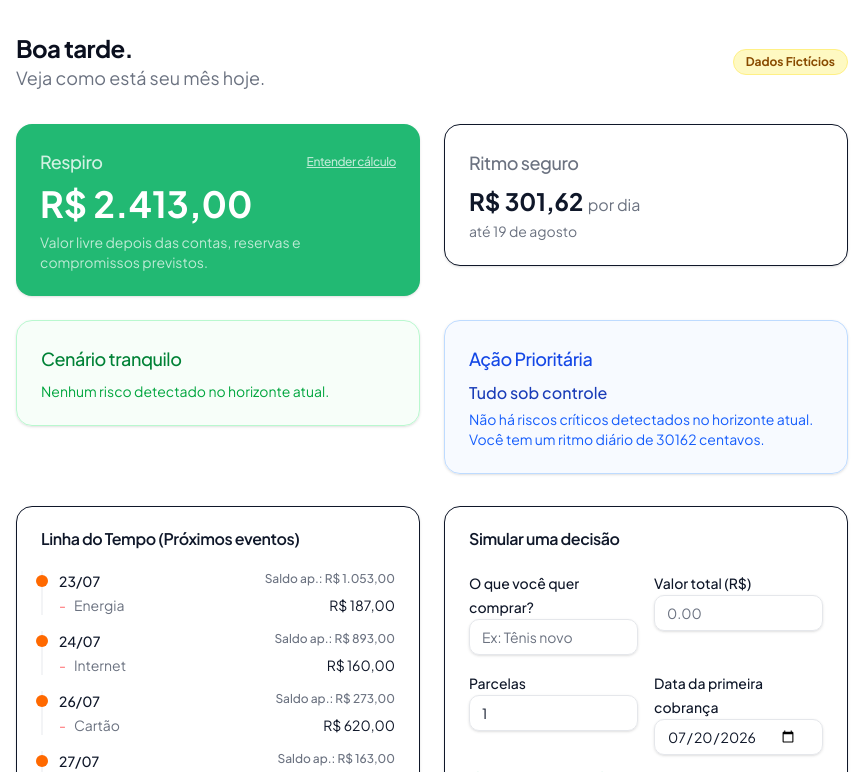
Test: TodayDashboardPrototype (Decision Engine Integration) › 16. Limpeza da simulação
The width and height of the screenshot is (865, 772).
Type "500" into the number field labelled "Valor total (R$)" at (738, 613), box left=654, top=595, right=823, bottom=631
(page scrolled)
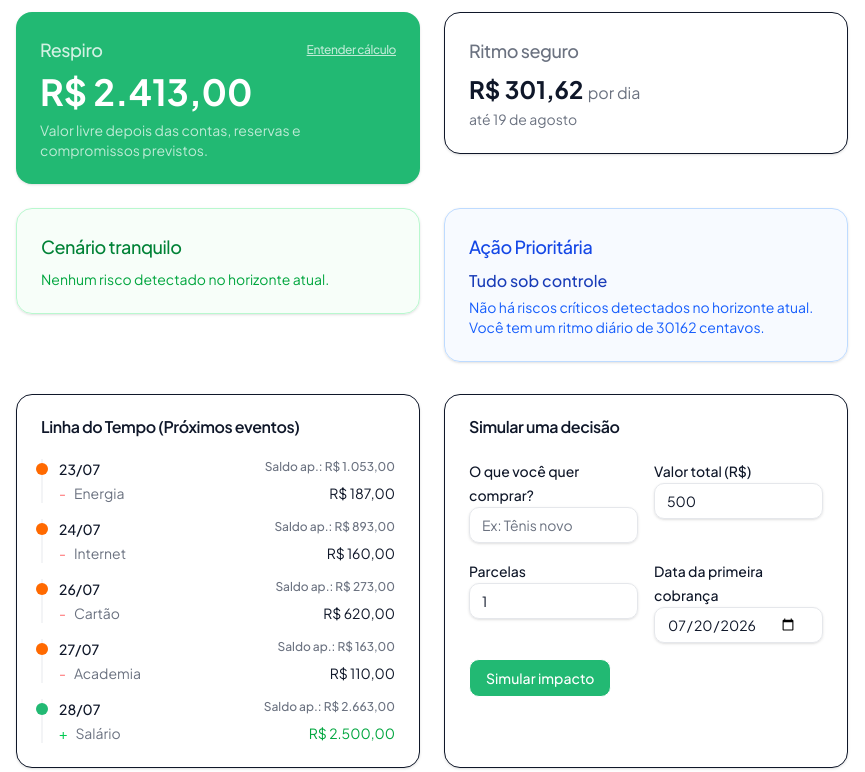
Click the button "Simular impacto" at (540, 678), box left=469, top=659, right=611, bottom=697
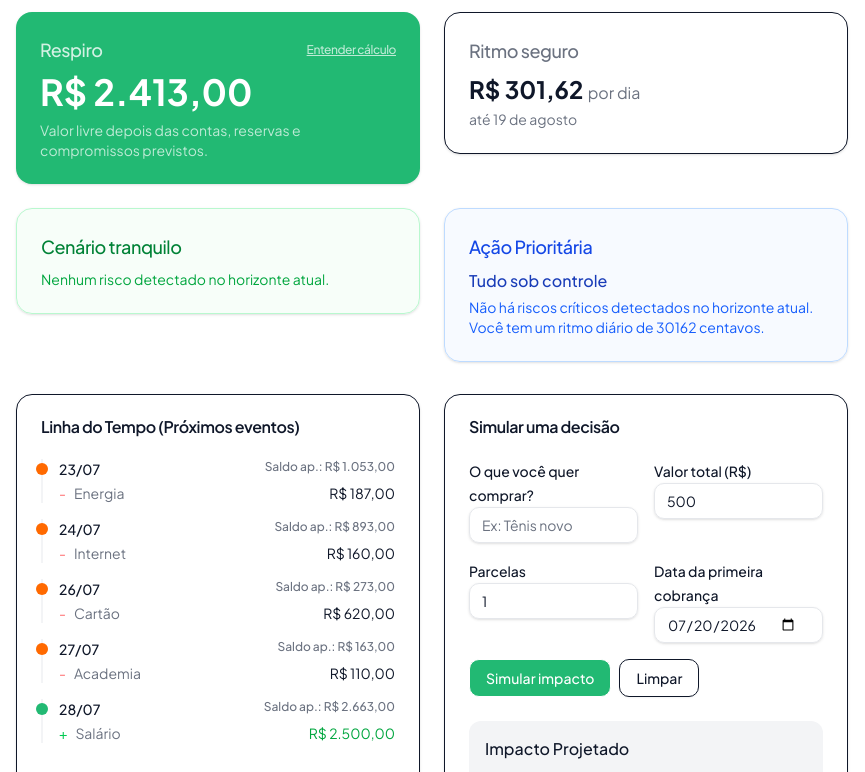
Check: the heading "Impacto Projetado" is shown, box left=485, top=738, right=629, bottom=759
Click the button "Limpar" at (659, 678), box left=619, top=659, right=699, bottom=697
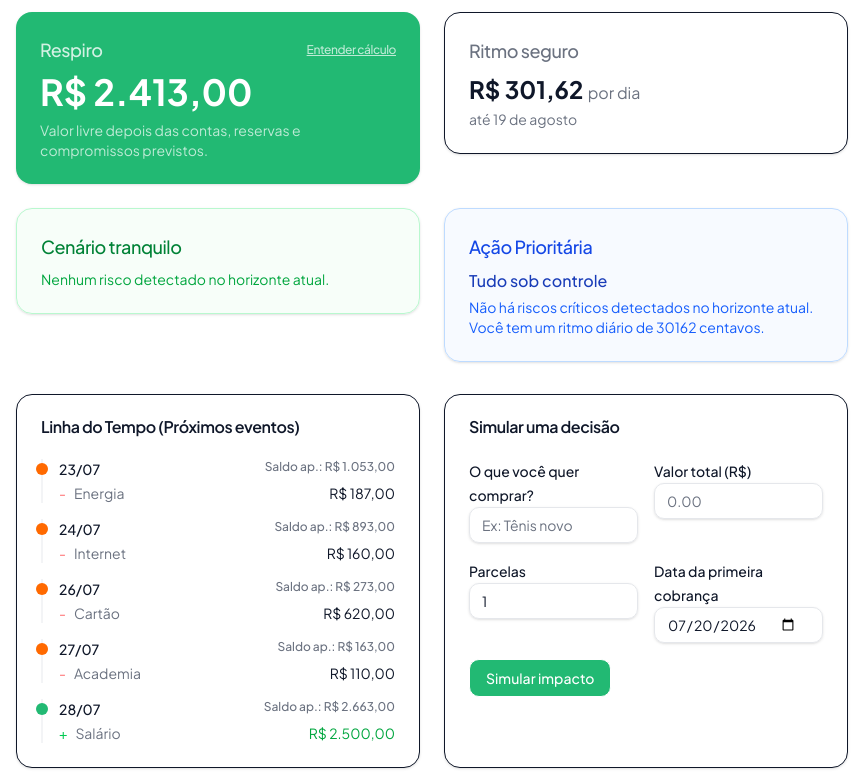
Check: the heading "Impacto Projetado" is gone
Check: the number field labelled "Valor total (R$)" is empty, box left=654, top=483, right=823, bottom=519
